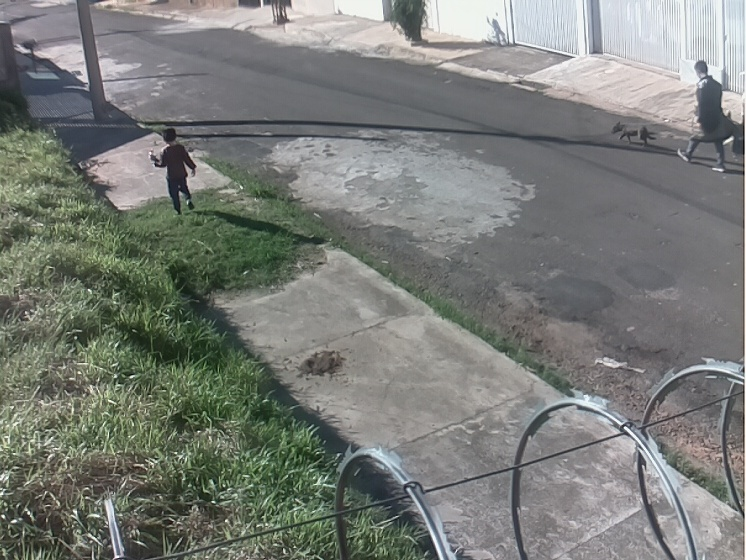person: (675, 60, 729, 174), (150, 127, 197, 218)
